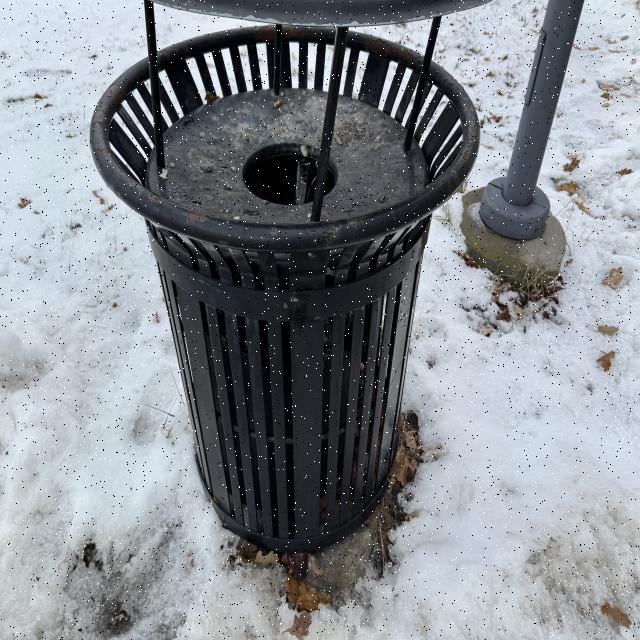Dustbin: (89, 0, 478, 552)
